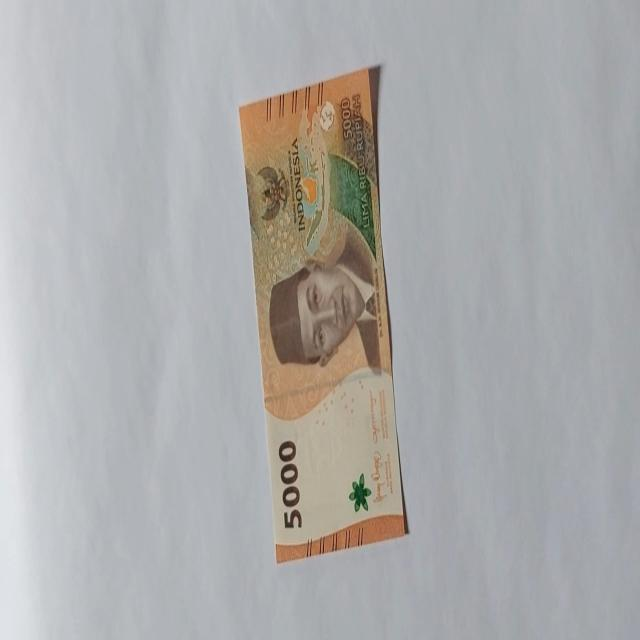lima ribu rupiah: (238, 65, 408, 562)
